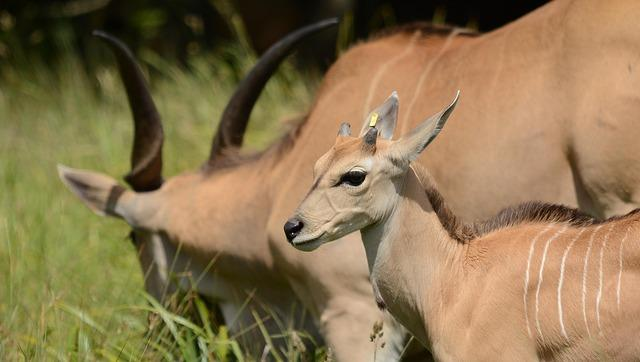Non_Gorille: (2, 2, 640, 362)
